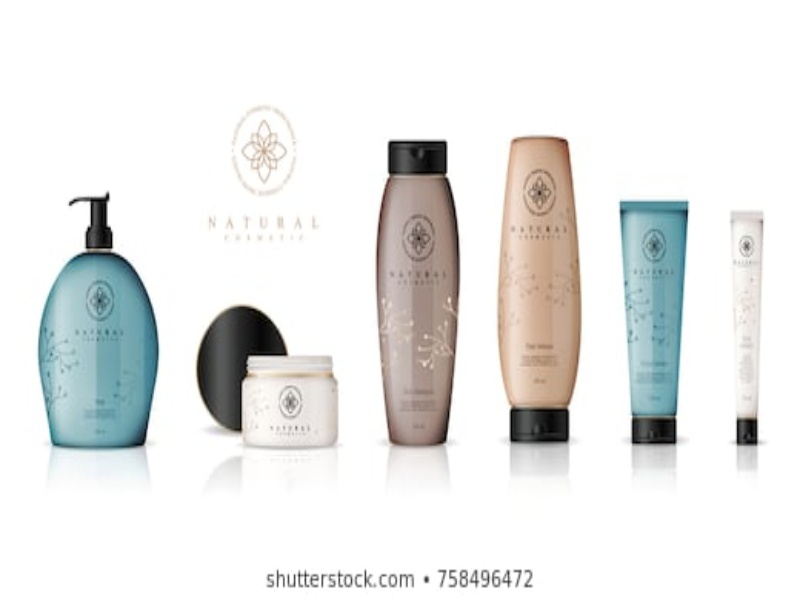shampoo-bottle: (35, 193, 156, 448), (496, 135, 590, 443), (374, 137, 457, 449), (613, 198, 690, 446), (728, 208, 764, 442)
